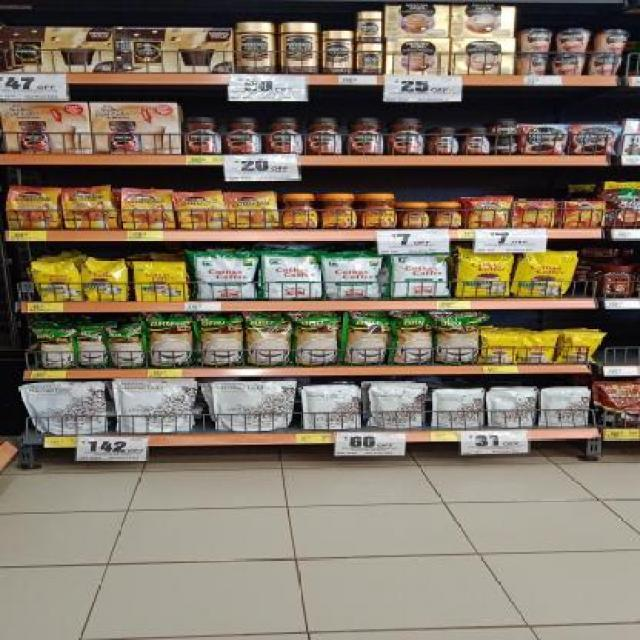Coffee: (62, 188, 118, 230), (121, 188, 177, 229), (8, 186, 60, 228), (236, 22, 276, 74), (278, 22, 316, 74), (176, 193, 229, 229), (228, 192, 279, 228), (348, 117, 388, 155), (262, 118, 304, 154), (306, 117, 346, 154), (356, 193, 399, 227), (388, 117, 427, 154), (183, 118, 223, 154), (521, 125, 567, 156), (321, 30, 353, 73), (224, 117, 262, 153), (320, 193, 357, 229), (282, 193, 319, 229), (468, 197, 510, 228), (572, 127, 616, 156), (461, 126, 491, 154), (357, 10, 383, 42), (357, 43, 383, 74), (430, 128, 460, 154), (401, 202, 430, 228), (432, 202, 462, 226), (491, 119, 517, 135), (496, 137, 519, 153)
